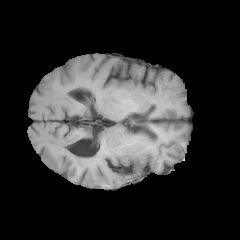glioma: (75, 137, 159, 177)
